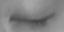RightEyeFatigue: (7, 9, 62, 31)
